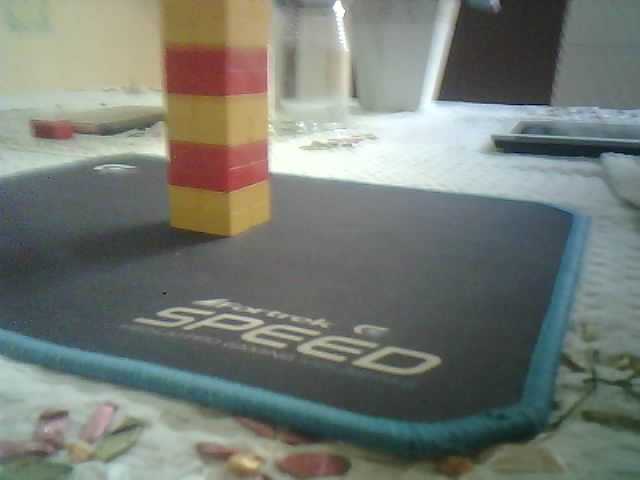lego: (159, 1, 273, 239), (31, 117, 76, 143)
